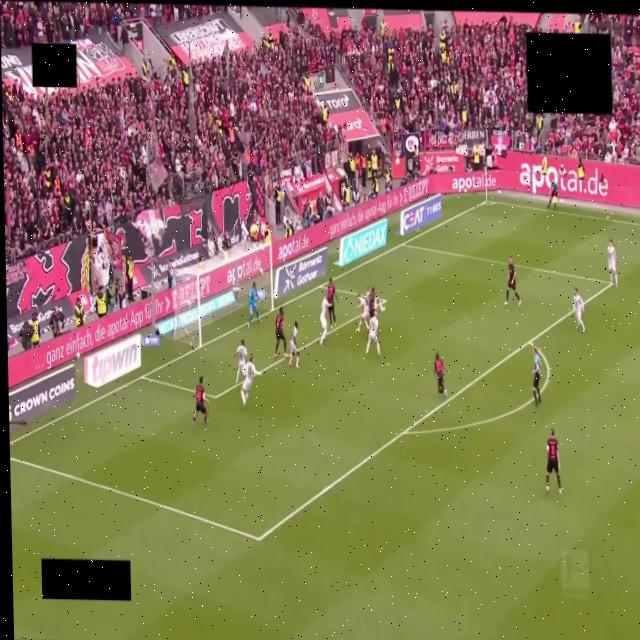player: (546, 428, 562, 494), (241, 357, 261, 406), (504, 257, 521, 306), (193, 376, 208, 424), (275, 307, 288, 359), (434, 353, 449, 397), (366, 312, 380, 355), (233, 340, 247, 382), (327, 278, 338, 328), (248, 283, 260, 327), (289, 321, 300, 368), (573, 289, 585, 332), (356, 296, 370, 332), (366, 288, 384, 316), (607, 239, 617, 287), (367, 288, 384, 316), (319, 296, 328, 347), (367, 288, 376, 317)
referee: (532, 347, 541, 407)
